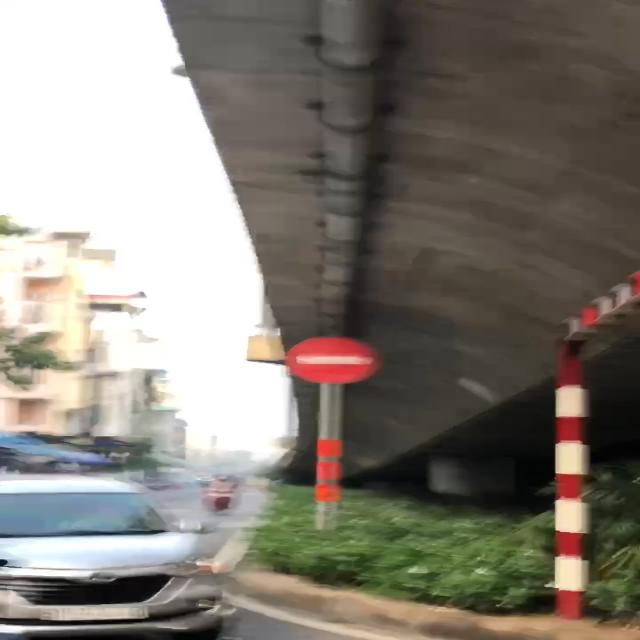Bien bao cam di nguoc chieu: (272, 332, 378, 389)
